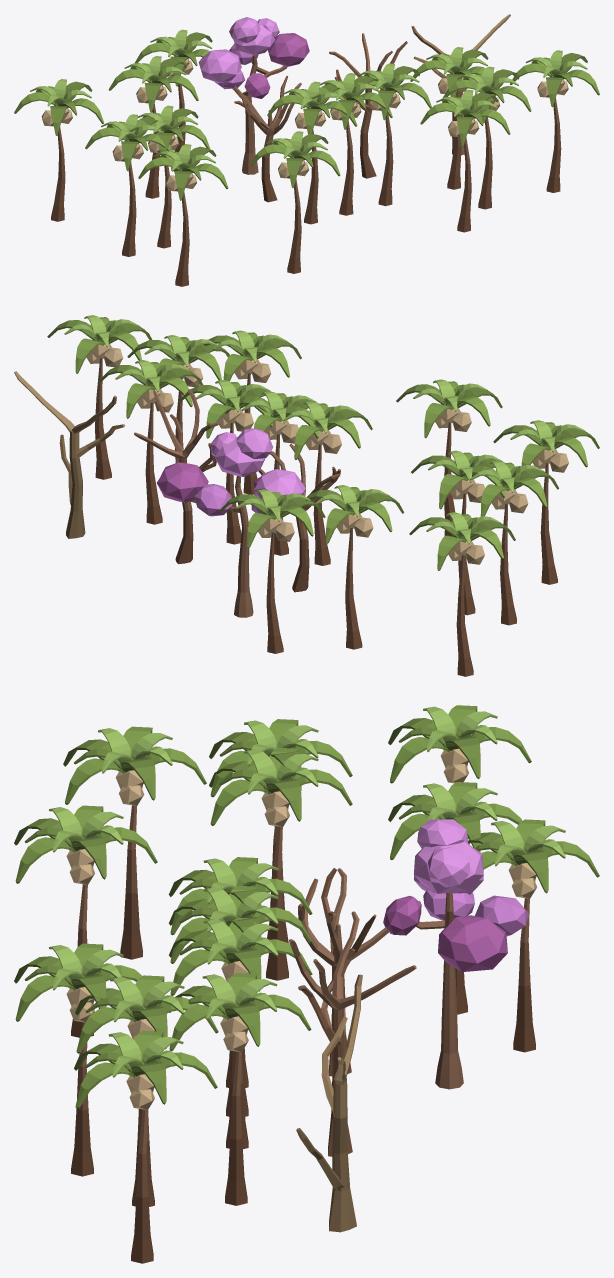
3 renders of one model, top to bottom at view 1: azimuth 30°, elevation 25°; view 2: azimuth 150°, elevation 25°; view 3: azimuth 270°, elevation 25°, orthographic. The views are drawn at different scales.
Visible parts, largest first — view 1: japan_tree_1, palm_1.118, palm_1.103, palm_1.106, palm_1.105, palm_1.133, palm_1.052, palm_1.049, palm_1.132, palm_1.051, palm_1.050, palm_1.104 (+6 smaller); view 2: japan_tree_1, palm_1.133, palm_1.134, palm_1.132, palm_1.030, palm_1.118, palm_1.106, palm_1.052, palm_1.049, palm_1.103, palm_1.051, palm_1.105 (+6 smaller); view 3: japan_tree_1, palm_1.106, palm_1.118, palm_1.030, palm_1.134, palm_1.053, palm_1.105, palm_1.103, palm_1.133, palm_1.104, palm_1.051, naked_tree_3 (+6 smaller).
Part boxes in pixels (bbox=[...]): japan_tree_1: bbox=[198, 17, 309, 174]; palm_1.118: bbox=[138, 144, 228, 286]; palm_1.103: bbox=[250, 131, 340, 273]; palm_1.106: bbox=[510, 50, 599, 192]; palm_1.105: bbox=[420, 89, 510, 232]; palm_1.133: bbox=[14, 79, 104, 221]; palm_1.052: bbox=[85, 114, 172, 256]; palm_1.049: bbox=[267, 81, 357, 224]; palm_1.132: bbox=[108, 56, 198, 198]; palm_1.051: bbox=[353, 63, 431, 206]; palm_1.050: bbox=[303, 73, 392, 215]; palm_1.104: bbox=[442, 66, 531, 209]; japan_tree_1: bbox=[157, 428, 305, 617]; palm_1.133: bbox=[409, 512, 515, 676]; palm_1.134: bbox=[219, 489, 325, 653]; palm_1.132: bbox=[305, 485, 403, 649]; palm_1.030: bbox=[98, 360, 202, 524]; palm_1.118: bbox=[493, 420, 599, 584]; palm_1.106: bbox=[47, 315, 152, 479]; palm_1.052: bbox=[459, 460, 558, 625]; palm_1.049: bbox=[272, 401, 372, 565]; palm_1.103: bbox=[396, 379, 502, 536]; palm_1.051: bbox=[178, 380, 272, 544]; palm_1.105: bbox=[204, 330, 301, 494]; japan_tree_1: bbox=[383, 819, 528, 1089]; palm_1.106: bbox=[74, 1030, 217, 1263]; palm_1.118: bbox=[63, 726, 206, 959]; palm_1.030: bbox=[169, 973, 311, 1205]; palm_1.134: bbox=[468, 819, 599, 1052]; palm_1.053: bbox=[209, 747, 352, 980]; palm_1.105: bbox=[14, 943, 142, 1176]; palm_1.103: bbox=[14, 805, 157, 1037]; palm_1.133: bbox=[388, 705, 531, 783]; palm_1.104: bbox=[75, 975, 218, 1206]; palm_1.051: bbox=[169, 917, 312, 1148]; naked_tree_3: bbox=[296, 974, 362, 1232].
Bounding box in the file's own units: 23.69 × 7.42 × 15.06.
Materials: 15 (15 with a texture image).
